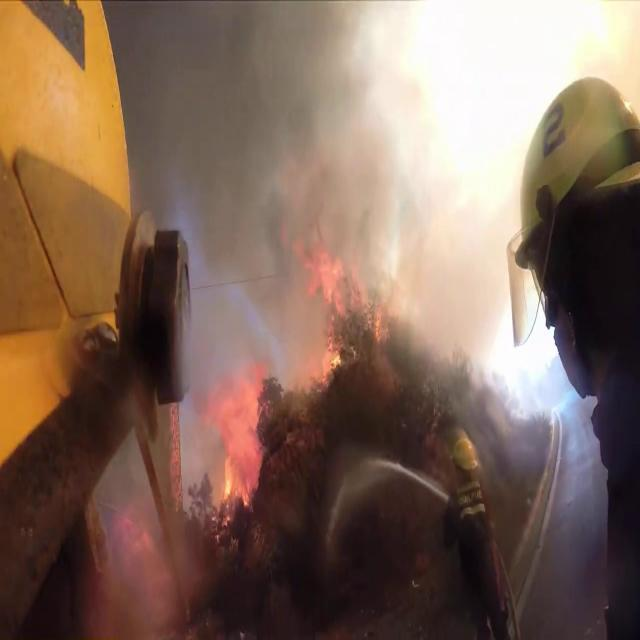Fire: (208, 356, 272, 522)
Smoke: (128, 1, 494, 378)
